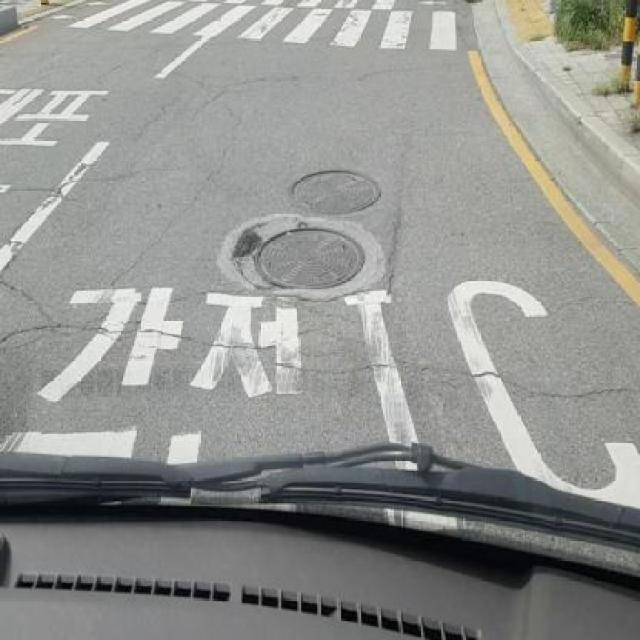Manhole: (218, 214, 368, 300), (284, 164, 390, 219)
